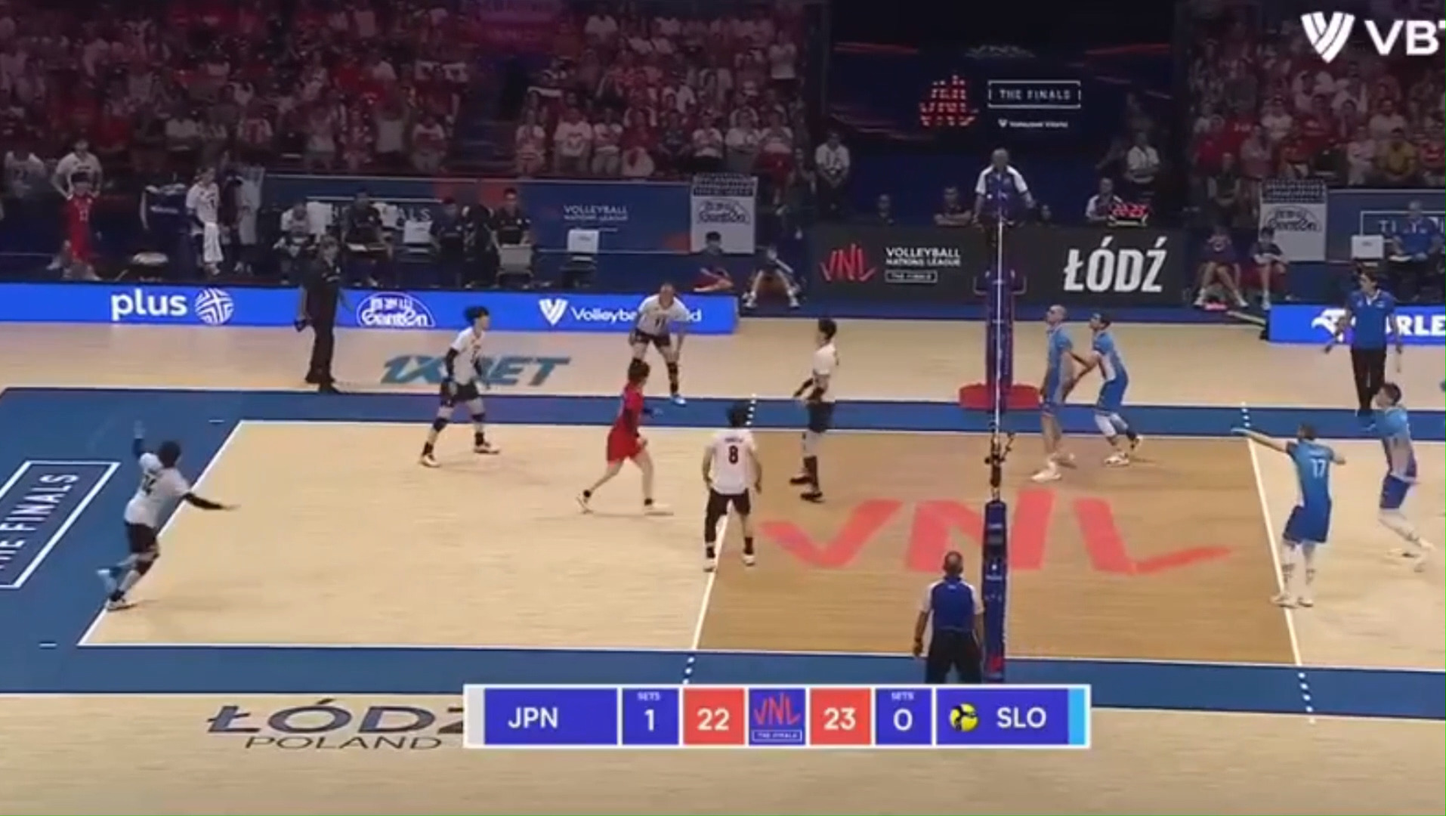player: (1236, 424, 1344, 607), (1373, 382, 1432, 570), (1071, 313, 1141, 466), (1031, 304, 1074, 481)
player 1: (98, 431, 230, 610), (579, 360, 663, 514), (419, 305, 498, 465), (701, 403, 761, 571), (789, 317, 839, 502), (629, 283, 693, 405)
referee: (1332, 270, 1404, 416), (913, 551, 984, 683), (974, 148, 1034, 304), (298, 234, 344, 393)
